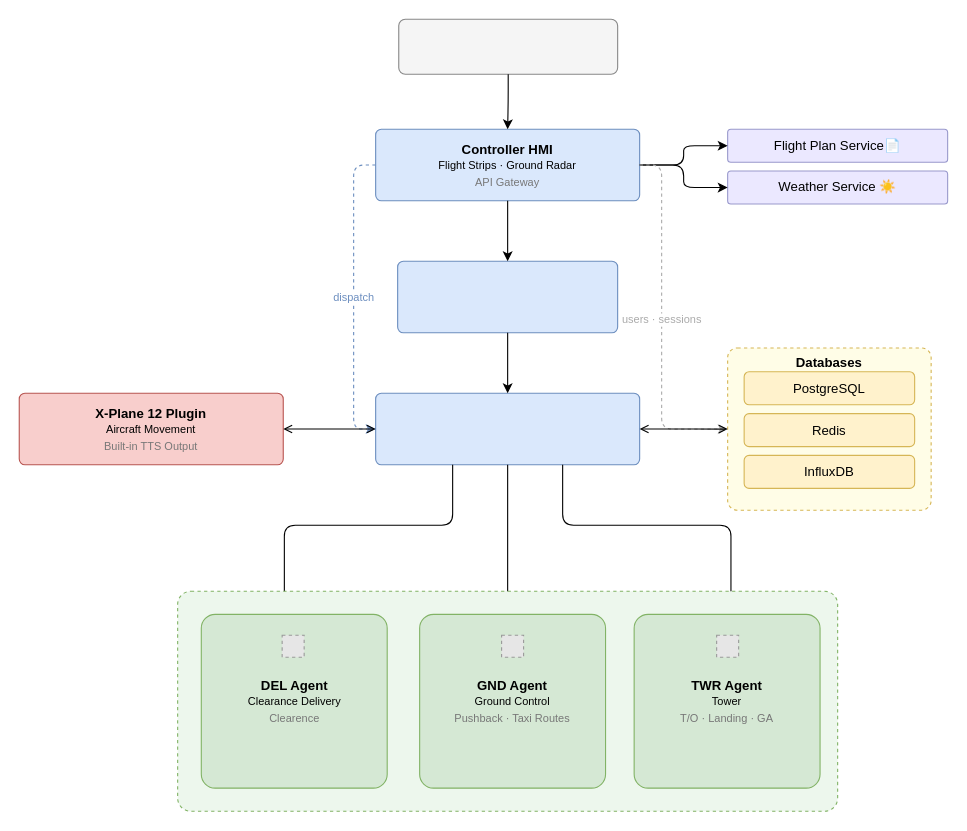
Image size: 967x831. Some labels were removed from this diagram. Grey dashed boxes stand in for pictures. Each missing label, with the centre of its shape:
"ASR Service Whisper · Callsign Correction fine-tuned for ATC" belongs at (507,296).
"Controller Microphone 🎤" belongs at (508,46).
"Orchestrator Agent Router · State Machine DEL → GND → TWR TWR → GND" belongs at (507,428).
